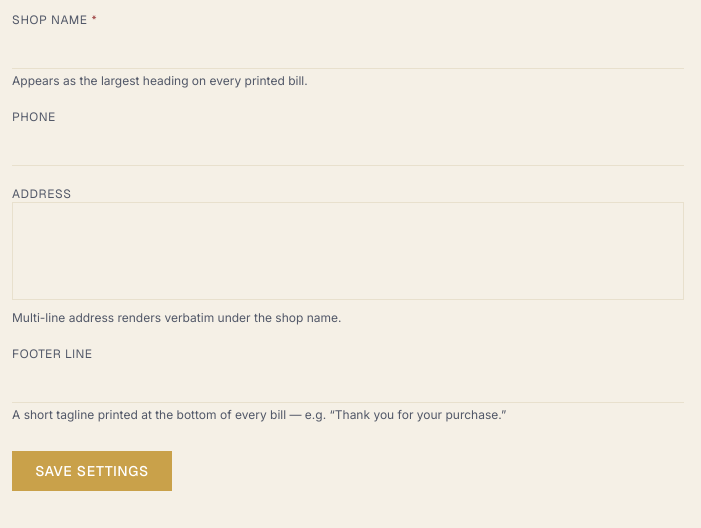
it: SettingsForm — save behavior › rejects client-side when shopName is empty (zod min-1)
The image size is (701, 528).
Submit without typing anything
Click the button with test id "settings-save" at point(92, 471), box [12,451,172,491]
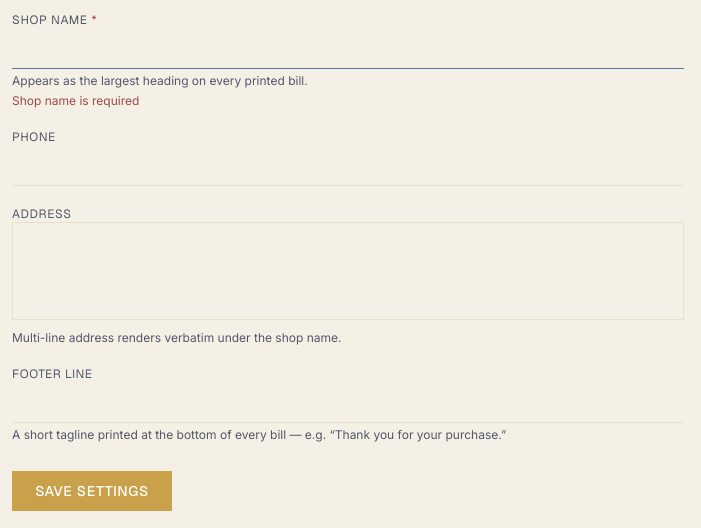
Check: the text "Shop name is required" is shown, box [12,93,139,108]
